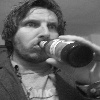beer: (39, 41, 92, 66)
